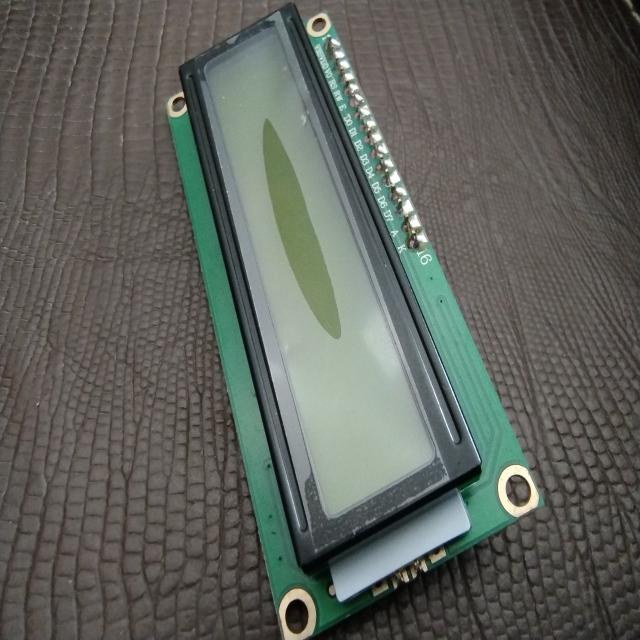lcd: (133, 0, 546, 640)
